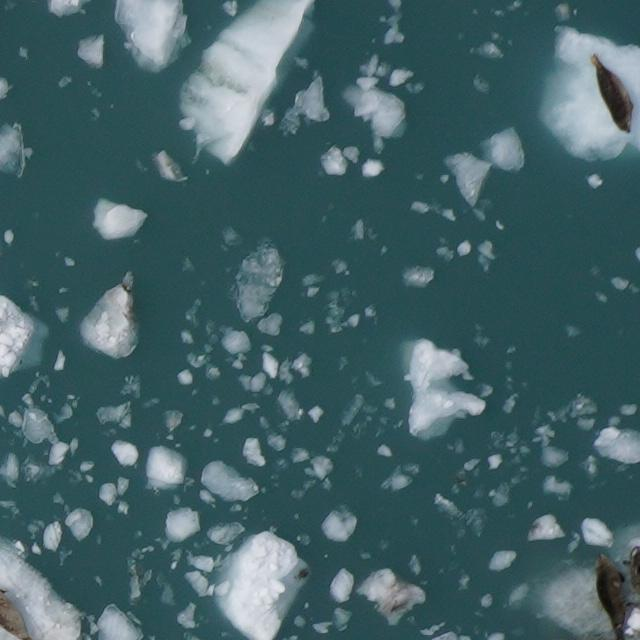seal: (590, 548, 634, 640), (0, 585, 32, 640), (623, 546, 639, 594)
